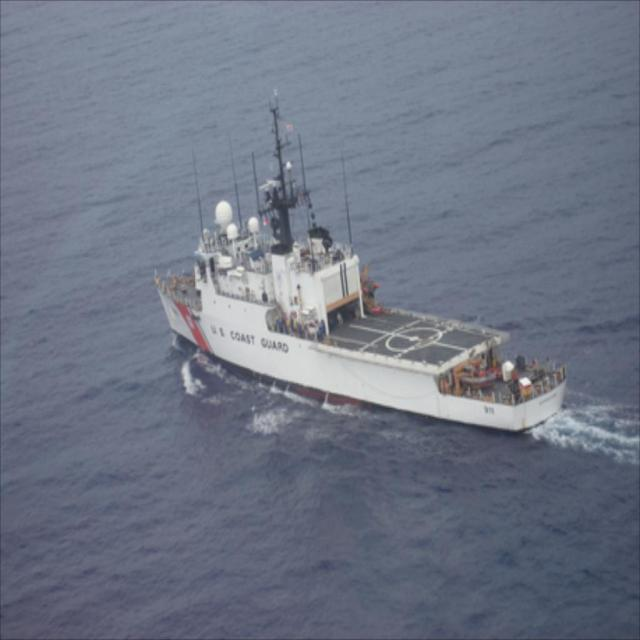Boat: (148, 108, 570, 432)
